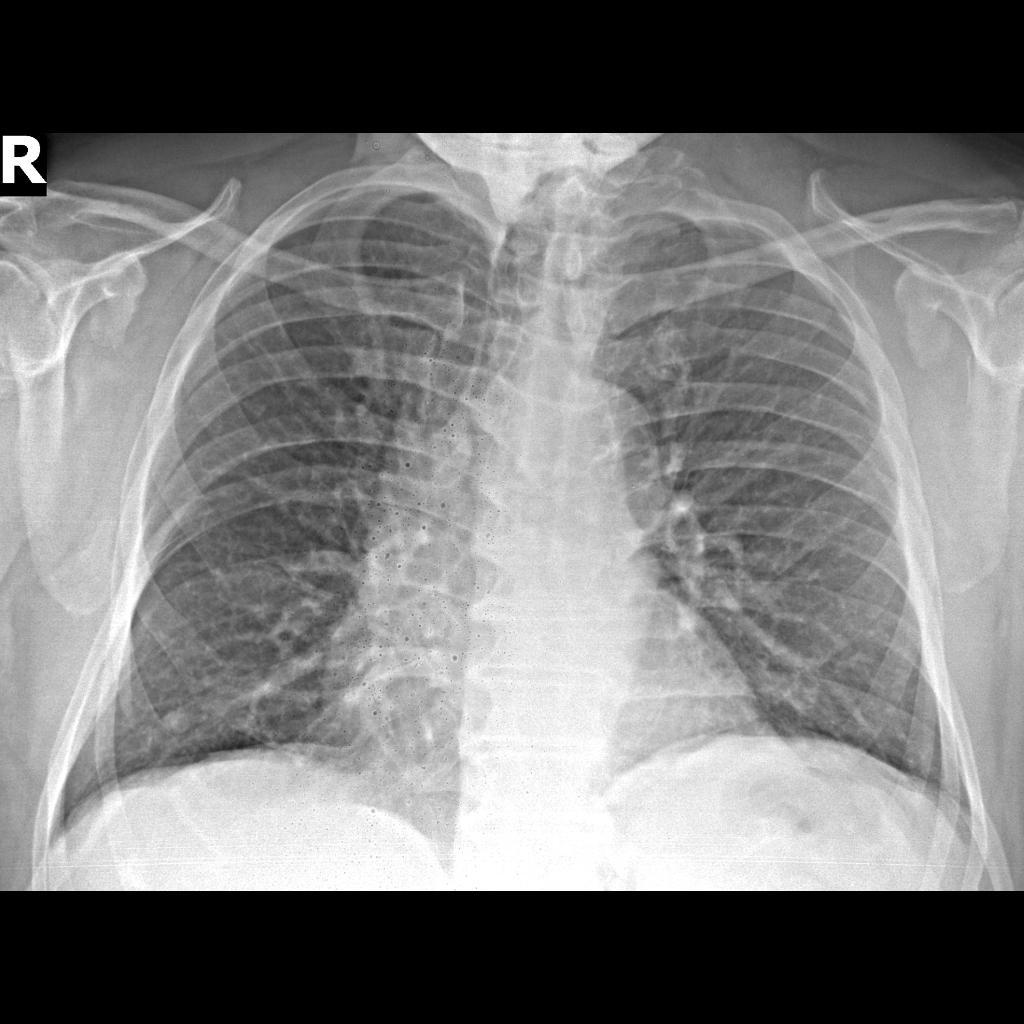Nodule: (157, 701, 200, 752)
